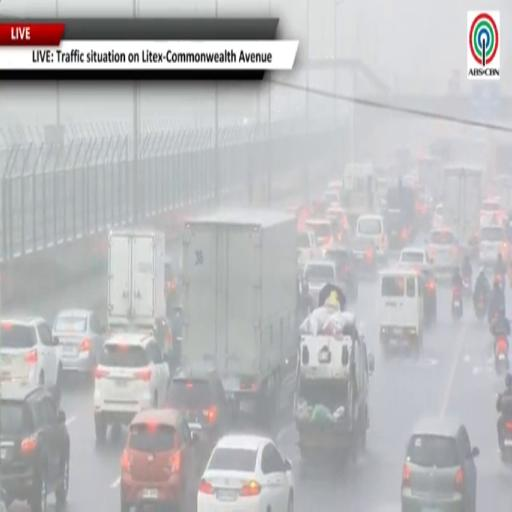car: (0, 383, 70, 511), (94, 332, 169, 442), (120, 409, 199, 511), (197, 435, 293, 511), (402, 418, 479, 511), (167, 366, 231, 454), (0, 317, 62, 403), (379, 268, 423, 357), (53, 310, 106, 375), (325, 247, 358, 300), (426, 229, 461, 276), (303, 260, 339, 303), (356, 215, 387, 258), (479, 226, 509, 266), (420, 267, 437, 326), (352, 238, 378, 276), (297, 231, 321, 268), (305, 219, 334, 248), (168, 306, 182, 364), (165, 254, 180, 308), (480, 198, 504, 228), (399, 247, 430, 268), (325, 205, 349, 230), (432, 203, 444, 229), (322, 189, 341, 204), (0, 488, 7, 511)
motorcycle: (494, 333, 509, 375), (501, 419, 511, 463), (474, 292, 487, 319), (452, 286, 462, 319), (495, 274, 505, 291), (463, 277, 471, 296)
truck: (182, 210, 297, 422), (294, 308, 374, 471), (107, 230, 172, 356), (443, 166, 483, 248), (342, 163, 377, 228), (384, 180, 416, 249), (418, 156, 443, 202)
